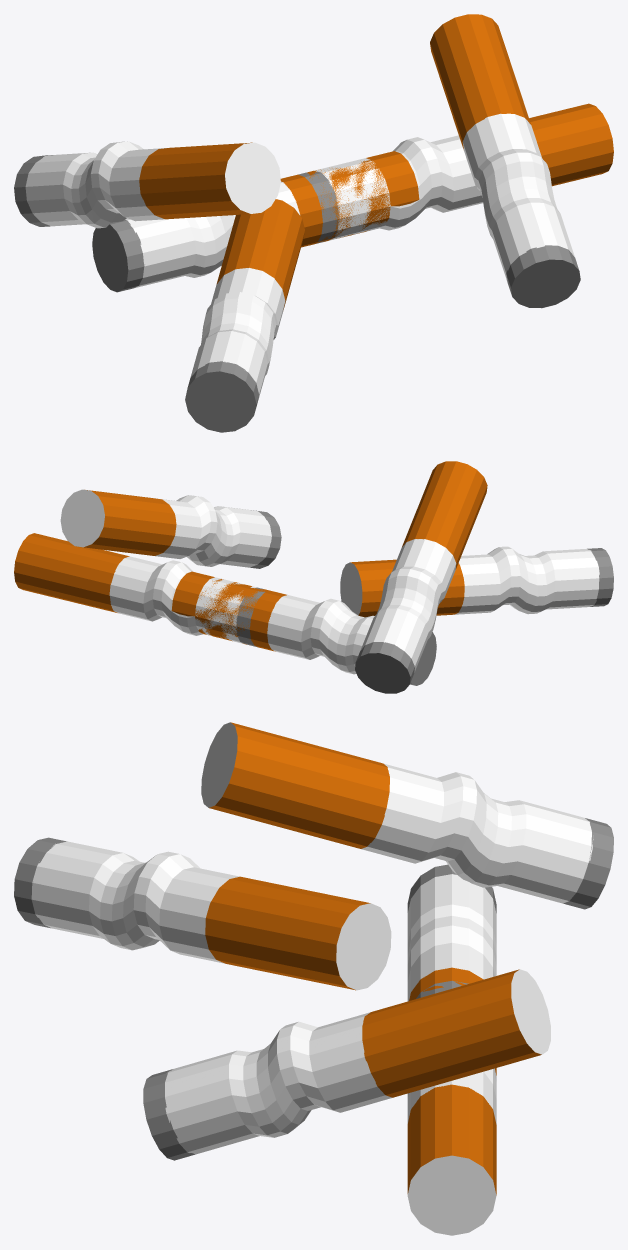
The model's file is groupCigarett.obj.
3 renders of one model, top to bottom at view 1: azimuth 30°, elevation 25°; view 2: azimuth 150°, elevation 25°; view 3: azimuth 270°, elevation 25°, orthographic. The views are drawn at different scales.
Parts seen in each view (by area): view 1: Cylinder_2, Cylinder.1_1, Cylinder_1, Cylinder_3, Cylinder.1_2, Cylinder, Cylinder.1_4, Cylinder_4, Cylinder.1_3, Cylinder.1, Cylinder.2, Cylinder.2_2 (+3 smaller); view 2: Cylinder, Cylinder_1, Cylinder_3, Cylinder.1_2, Cylinder_2, Cylinder.1_3, Cylinder_4, Cylinder.1_1, Cylinder.1_4, Cylinder.1, Cylinder.2_1, Cylinder.2 (+3 smaller); view 3: Cylinder_1, Cylinder_2, Cylinder.1_1, Cylinder.1_2, Cylinder, Cylinder.1, Cylinder.1_3, Cylinder_4, Cylinder.2_1, Cylinder.2_2, Cylinder.2, Cylinder_3 (+1 smaller).
Part boxes in pixels (left/top/right/bottom): Cylinder_2: left=462, top=113, right=574, bottom=282; Cylinder.1_1: left=139, top=142, right=280, bottom=219; Cylinder_1: left=25, top=141, right=166, bottom=228; Cylinder_3: left=314, top=135, right=483, bottom=240; Cylinder.1_2: left=430, top=14, right=530, bottom=148; Cylinder: left=190, top=268, right=285, bottom=402; Cylinder.1_4: left=280, top=151, right=419, bottom=247; Cylinder_4: left=125, top=181, right=300, bottom=288; Cylinder.1_3: left=529, top=103, right=613, bottom=186; Cylinder.1: left=216, top=199, right=304, bottom=309; Cylinder.2: left=185, top=361, right=258, bottom=432; Cylinder.2_2: left=506, top=245, right=580, bottom=308; Cylinder: left=455, top=546, right=599, bottom=614; Cylinder_1: left=360, top=539, right=456, bottom=672; Cylinder_3: left=109, top=556, right=256, bottom=643; Cylinder.1_2: left=60, top=489, right=176, bottom=555; Cylinder_2: left=155, top=495, right=271, bottom=567; Cylinder.1_3: left=14, top=533, right=129, bottom=612; Cylinder_4: left=267, top=595, right=374, bottom=674; Cylinder.1_1: left=402, top=461, right=487, bottom=569; Cylinder.1_4: left=171, top=571, right=286, bottom=651; Cylinder.1: left=340, top=559, right=464, bottom=617; Cylinder.2_1: left=355, top=642, right=414, bottom=693; Cylinder.2: left=587, top=548, right=613, bottom=606; Cylinder_1: left=361, top=763, right=593, bottom=903; Cylinder_2: left=165, top=1012, right=392, bottom=1154; Cylinder.1_1: left=201, top=722, right=389, bottom=848; Cylinder.1_2: left=362, top=969, right=550, bottom=1097; Cylinder: left=31, top=841, right=239, bottom=963; Cylinder.1: left=205, top=876, right=391, bottom=990; Cylinder.1_3: left=407, top=1084, right=496, bottom=1235; Cylinder_4: left=407, top=874, right=496, bottom=1001; Cylinder.2_1: left=563, top=818, right=613, bottom=909; Cylinder.2_2: left=143, top=1069, right=195, bottom=1160; Cylinder.2: left=14, top=837, right=66, bottom=928; Cylinder_3: left=407, top=1068, right=496, bottom=1124.
Size of the model in its own units: 39.83 by 14.46 by 29.69.
